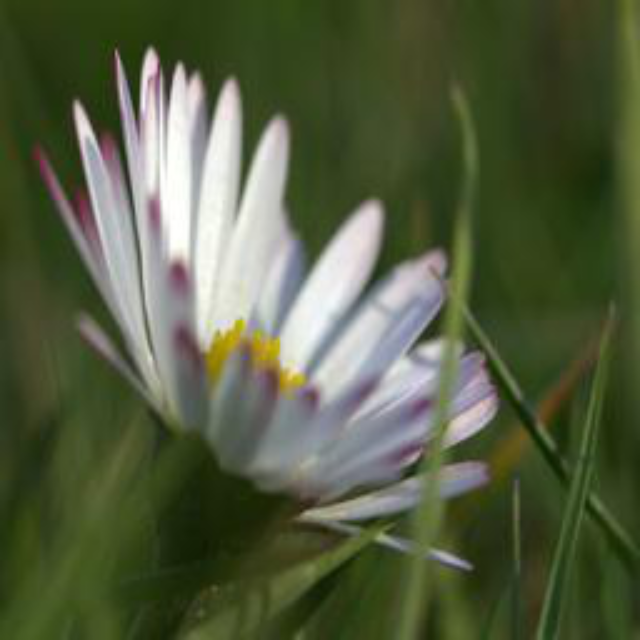daisy: (28, 37, 507, 578)
